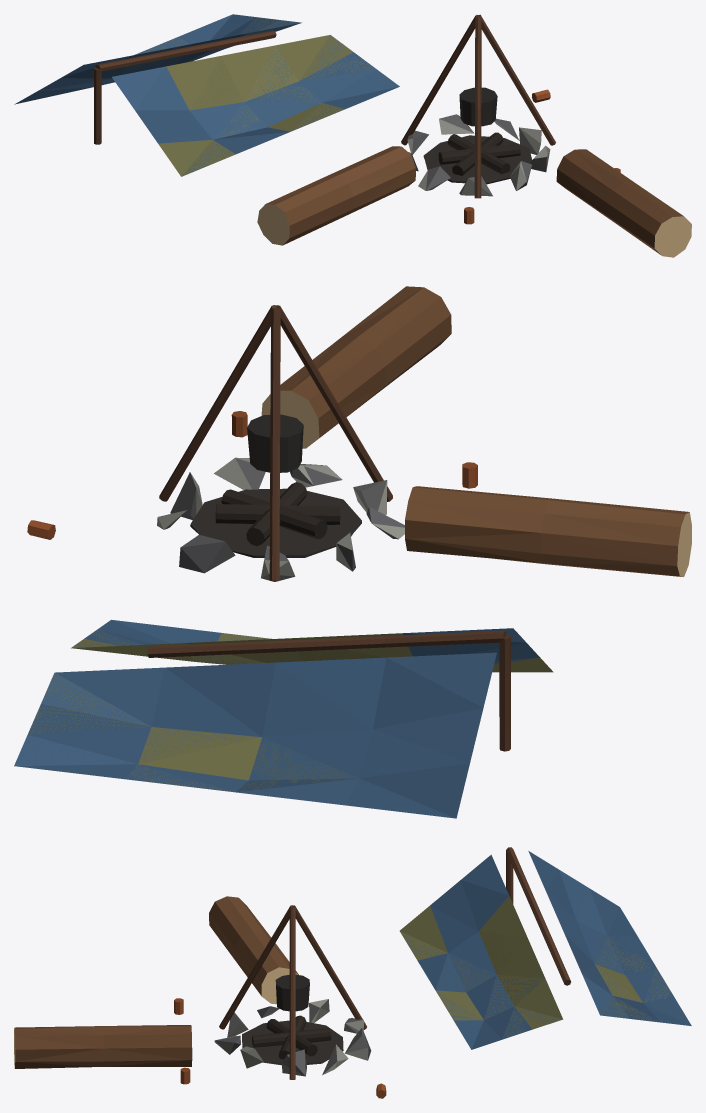
The model's file is campsite.glb.
The picture shows the model from 3 angles, top to bottom: view 1: azimuth 30°, elevation 25°; view 2: azimuth 150°, elevation 25°; view 3: azimuth 270°, elevation 25°; orthographic projection. The views are drawn at different scales.
Visible parts, largest first — view 1: campsite-tent, campsite; view 2: campsite-tent, campsite; view 3: campsite-tent, campsite.
Boxes of the visible parts, bbox=[...] form: campsite-tent: bbox=[14, 14, 399, 176]; campsite: bbox=[257, 14, 691, 257]; campsite-tent: bbox=[14, 619, 553, 818]; campsite: bbox=[27, 286, 691, 581]; campsite-tent: bbox=[399, 847, 691, 1049]; campsite: bbox=[14, 896, 386, 1098].
Size of the model in its own units: 3.55 by 1.25 by 5.36.
